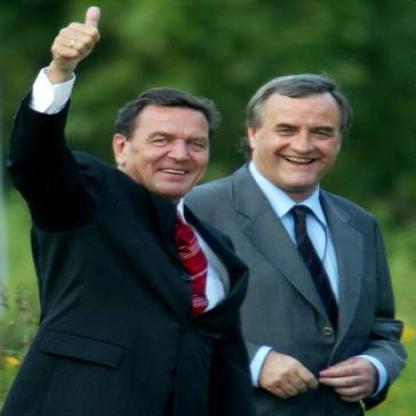face: (256, 83, 346, 190), (128, 97, 217, 201)
